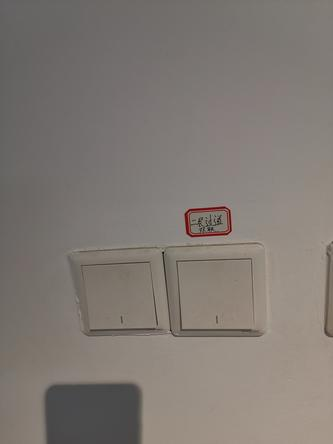switch: (173, 253, 265, 335), (80, 253, 164, 335)
